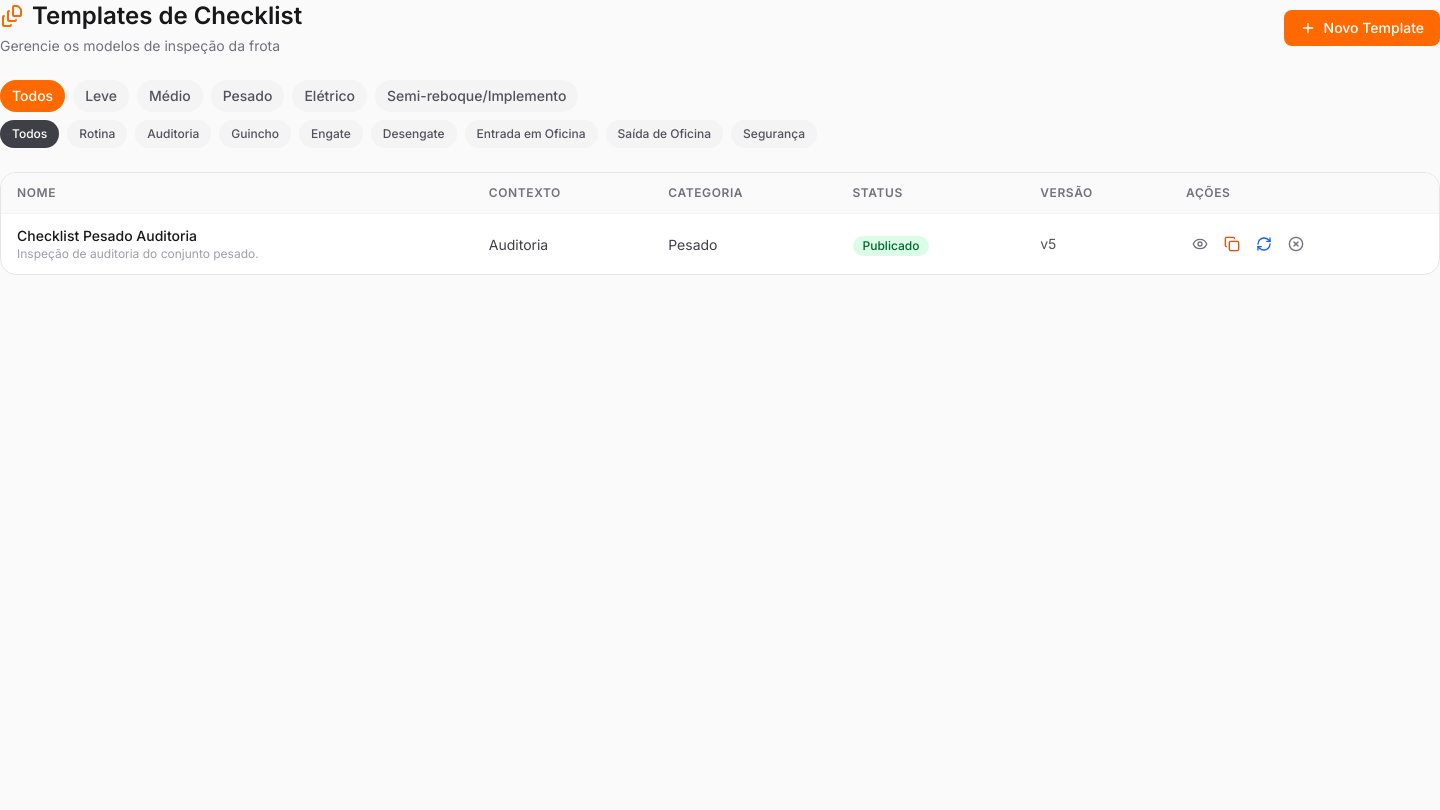
ChecklistTemplates.detailModal › fechar o modal remove o dialog e limpa o estado selecionado
Click the button titled "Visualizar" at {"x": 1200, "y": 244}, box [1186, 230, 1214, 258]
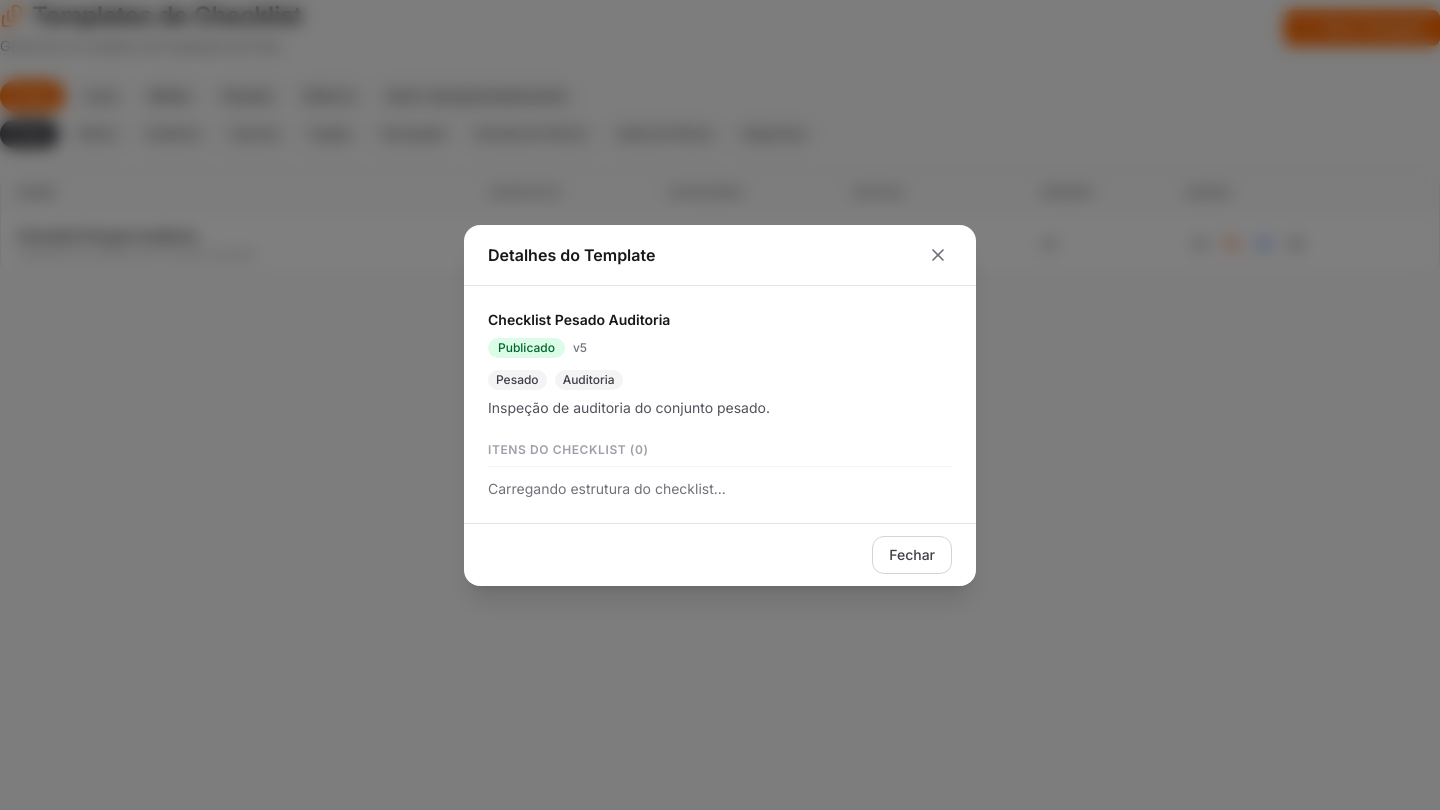
Expected: the dialog is shown, [464, 224, 976, 586]
Expected: the dialog shows "Detalhes do Template", [488, 244, 656, 264]
Expected: the button "Fechar" is shown
Click the button "Fechar" at {"x": 912, "y": 554}, box [872, 536, 952, 574]
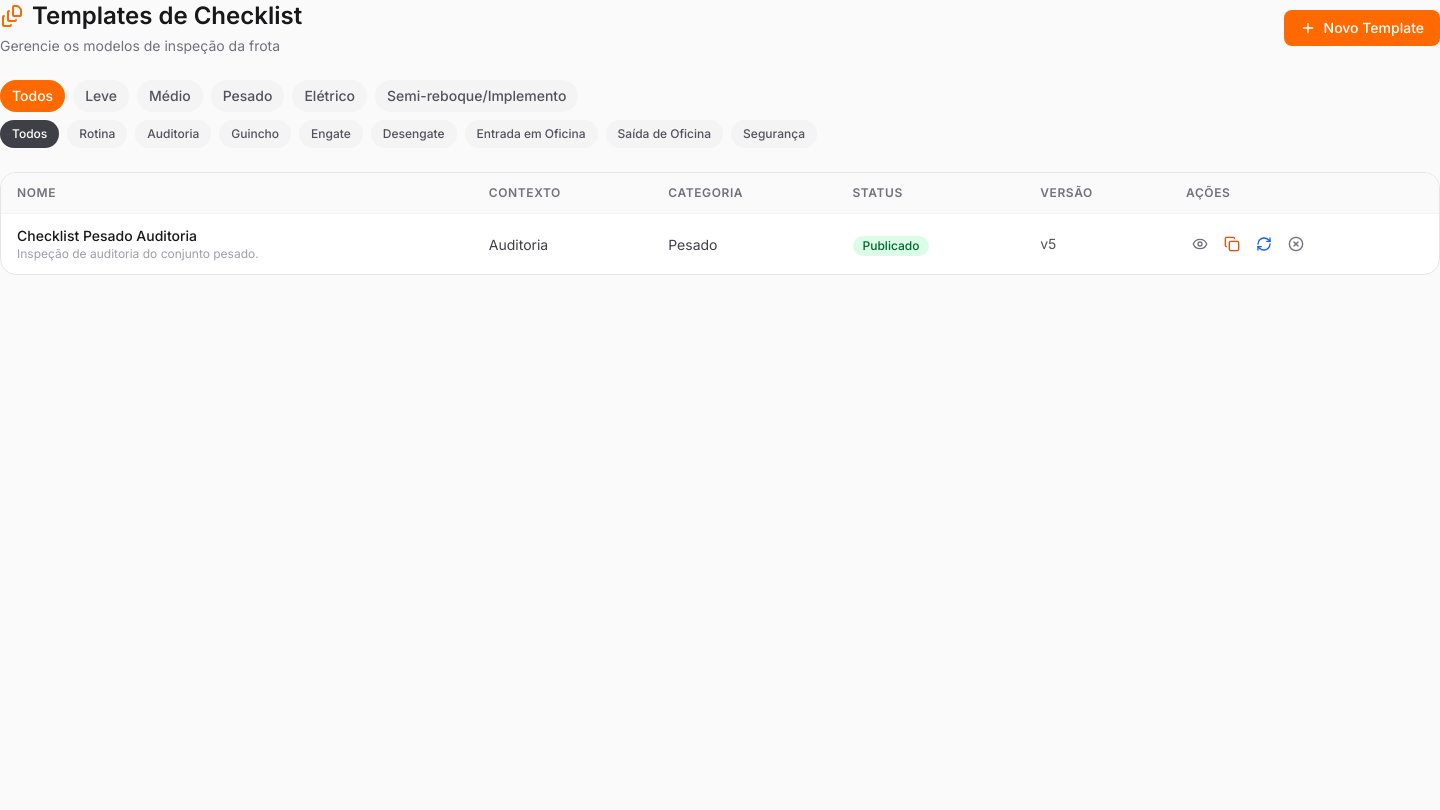
Expected: the dialog is gone
